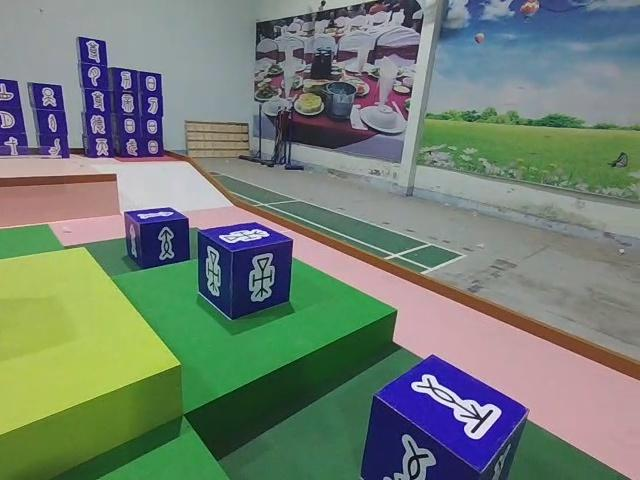R2 Real Blue: (366, 358, 525, 480), (195, 223, 292, 322), (124, 206, 191, 271)
